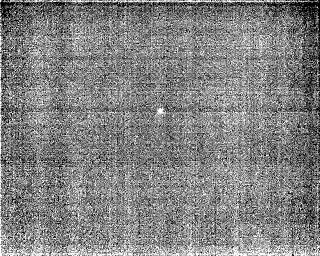BIRD: (153, 105, 168, 119)
